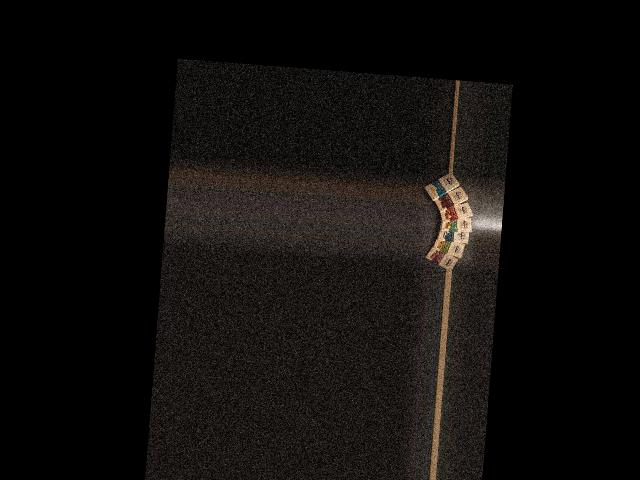chocolate: (420, 171, 461, 203)
